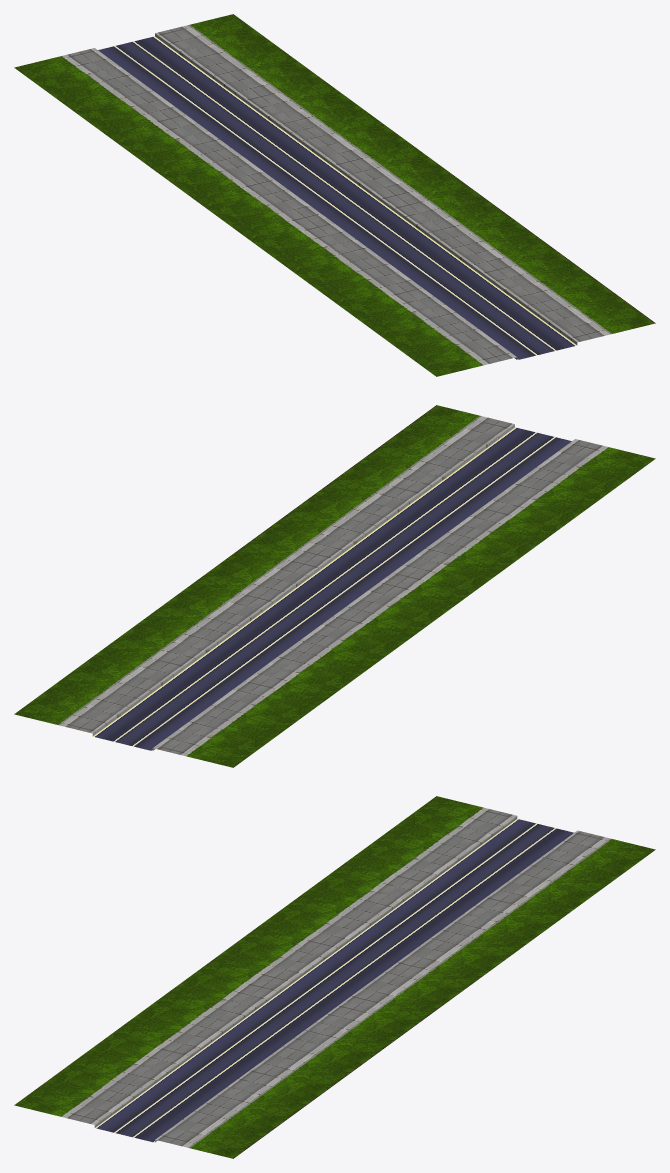
The model's file is pk_model_dianmian.FBX.
3 renders of one model, top to bottom at view 1: azimuth 30°, elevation 25°; view 2: azimuth 150°, elevation 25°; view 3: azimuth 330°, elevation 25°, orthographic.
Visible parts, largest first — view 1: pk_model_daolu; view 2: pk_model_daolu; view 3: pk_model_daolu.
Part boxes in pixels (x1=…): pk_model_daolu: x1=14, y1=14, x2=655, y2=376; pk_model_daolu: x1=14, y1=405, x2=655, y2=767; pk_model_daolu: x1=14, y1=796, x2=655, y2=1158.
Size of the model in its own units: 3028 by 40.01 by 10100.
